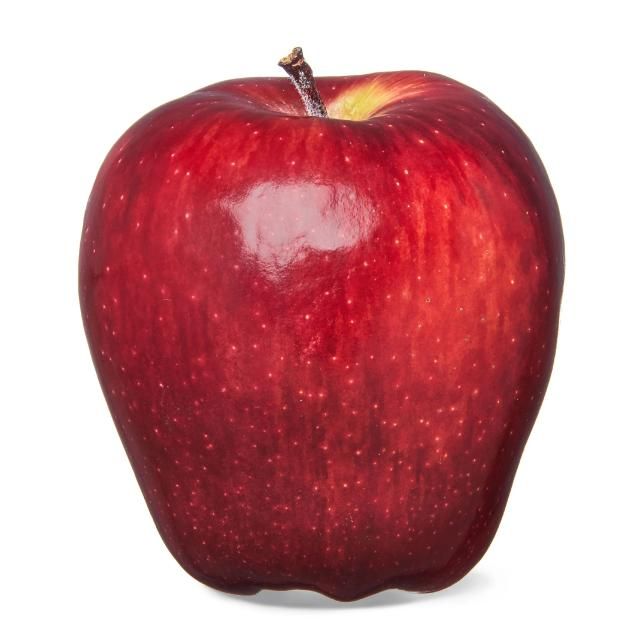Apple: (79, 48, 564, 602)
